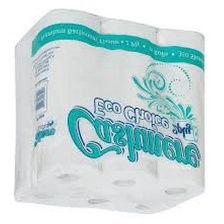tissue: (7, 3, 212, 219)
